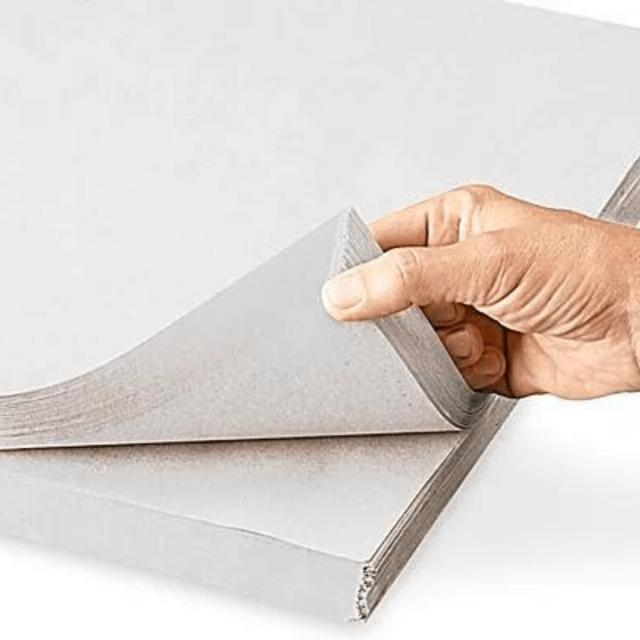Papel: (0, 3, 640, 612)
